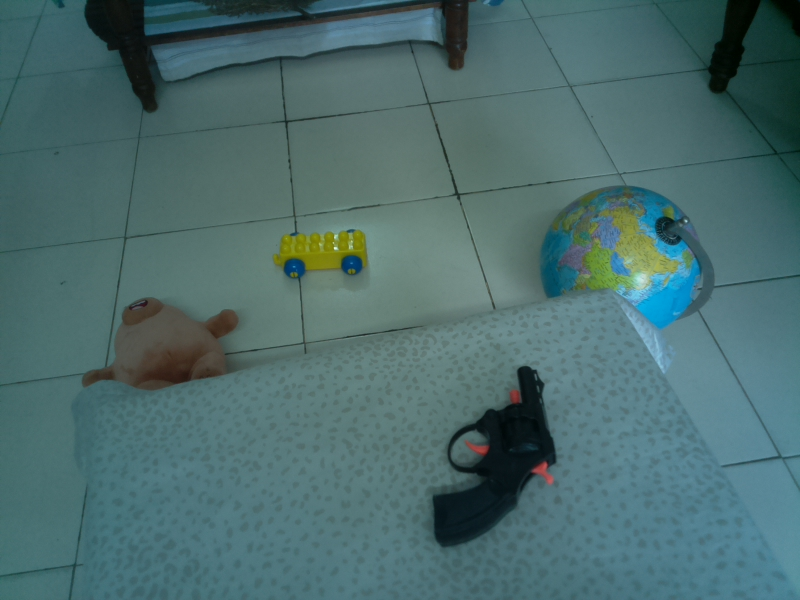Gun: (428, 360, 561, 551)
toy_Car: (270, 220, 378, 286)
